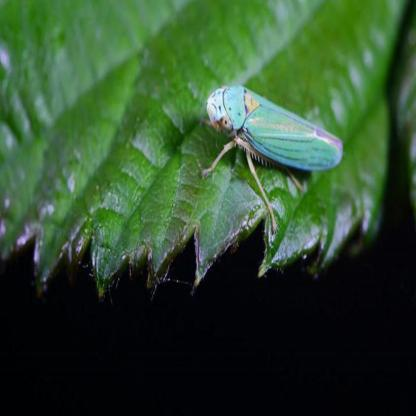green-leafhopper: (202, 80, 345, 219)
